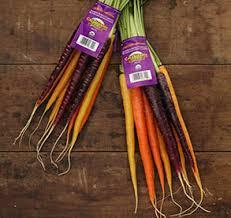Organic: (17, 18, 231, 218)
